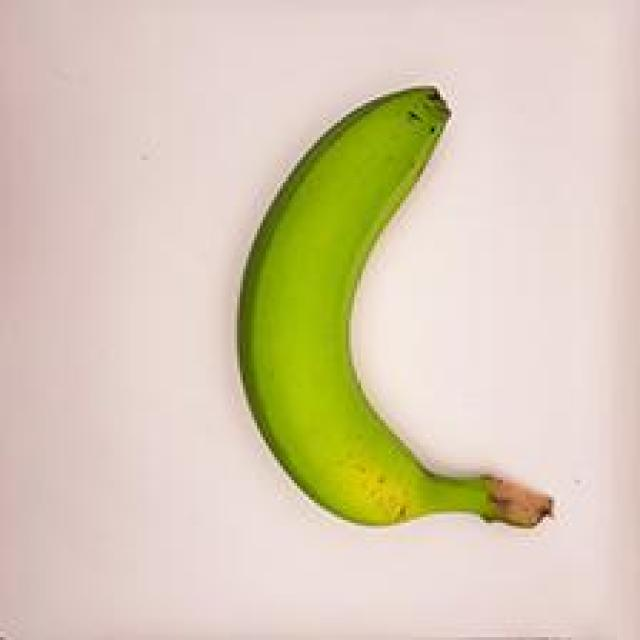unripe: (205, 74, 582, 546)
